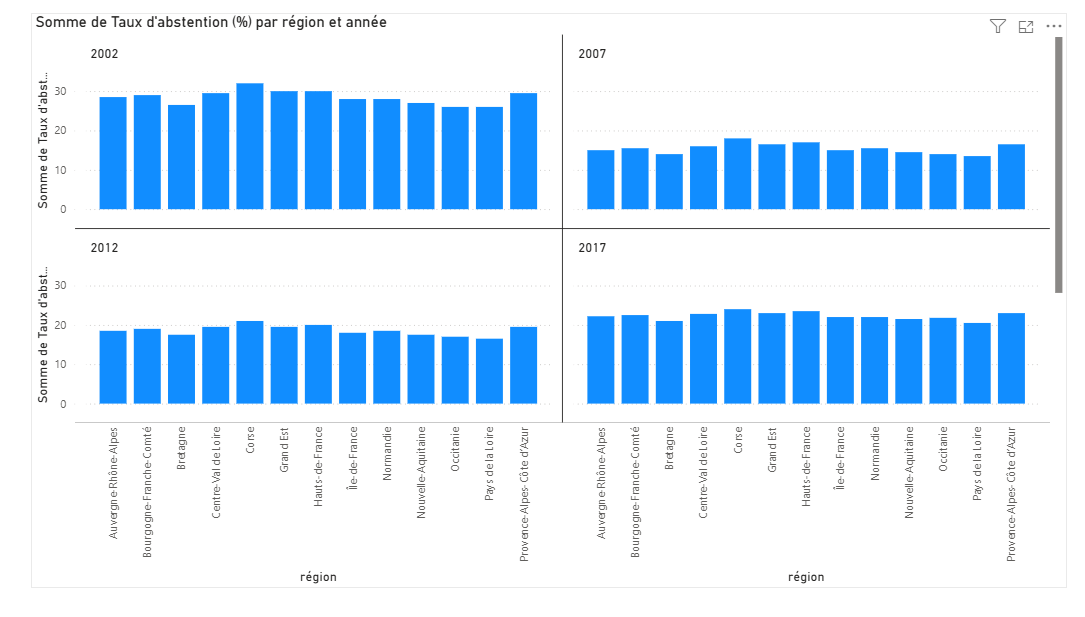

The page's visual inventory and layout, read from the dashboard file:
{"tool":"powerbi","page":{"name":"Taux absentions par région par année ","canvas":[1280,720],"ordinal":7},"visuals":[{"type":"clusteredColumnChart","fields":{"Category":["Données élections.région"],"Y":["Sum(Données élections.Taux d'abstention (%))"],"Rows":["Données élections.année"]},"box":[75.9,22.9,1151.1,639.3],"z":0}]}

Visuals, with their boxes in screenshot pixels (x1, y1, x2, y2), scaled from the page's 1280x720 canvas onto the 1085x617 screenshot:
clusteredColumnChart - Données élections.région x Sum(Données élections.Taux d'abstention (%)): locate(64, 20, 1040, 567)
